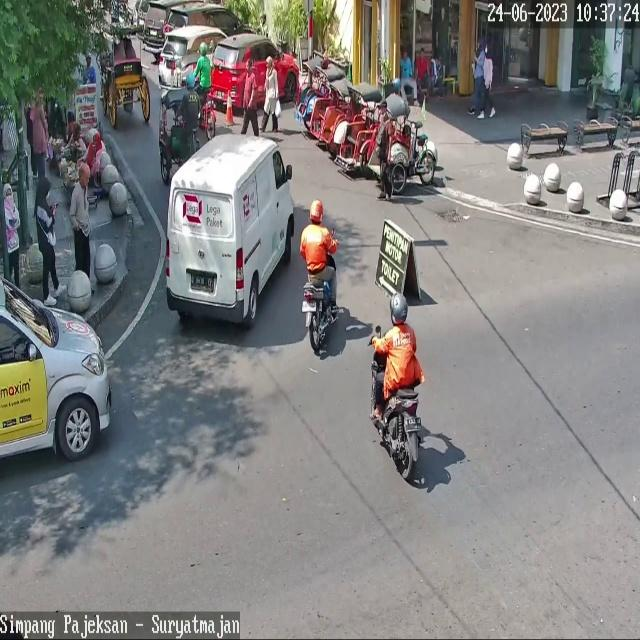bus: (372, 330, 422, 478), (302, 252, 336, 350)
motorcycle: (166, 133, 294, 325), (0, 275, 112, 460), (202, 34, 300, 114), (163, 3, 257, 63), (158, 24, 228, 90), (142, 0, 169, 52)
